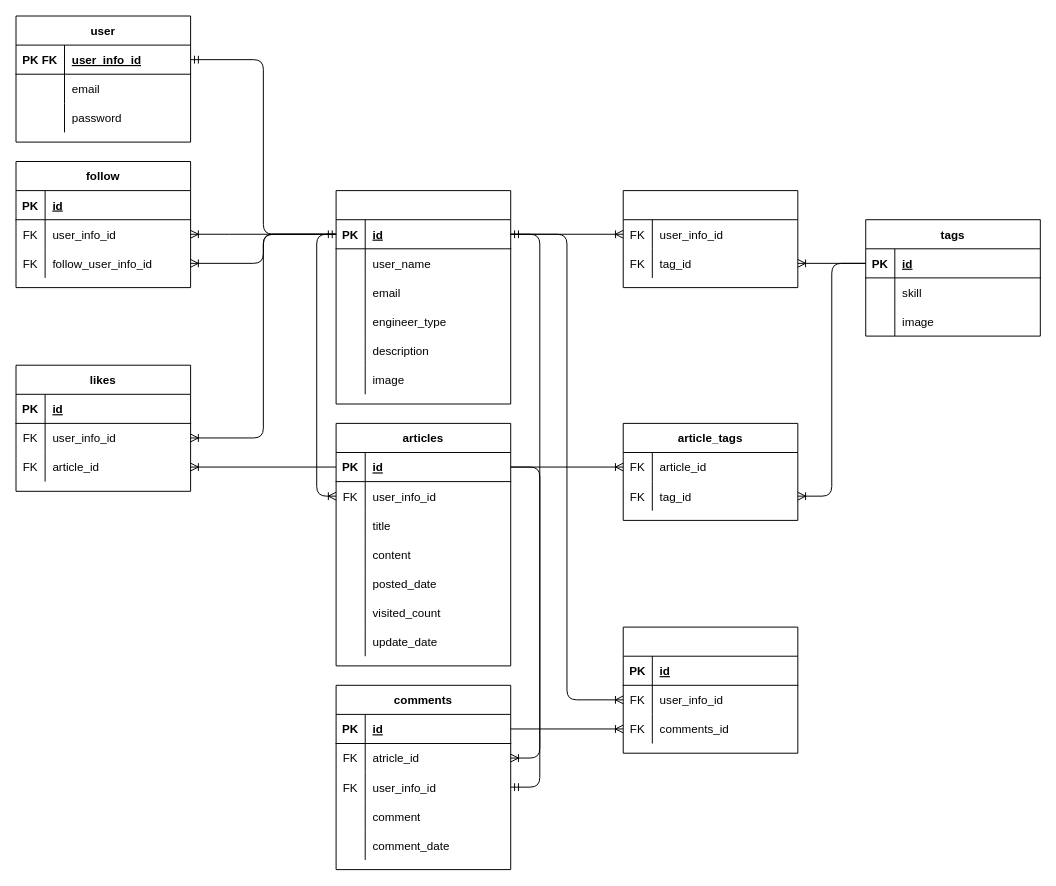
This 1056x886 diagram has some shape labels left out. The shapes that lost their labels are listed below. From the top down, each one's box as (x1, y1, x2, y2) in pixels, then its label:
(622, 190, 798, 288): user_info_tags
(335, 190, 511, 404): user_info
(622, 626, 798, 753): comment_likes
